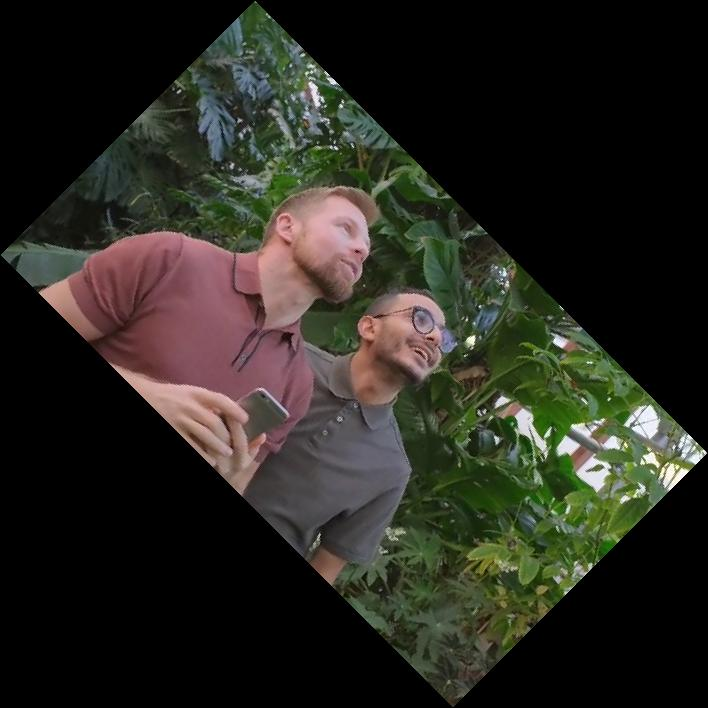phone: (232, 384, 290, 443)
